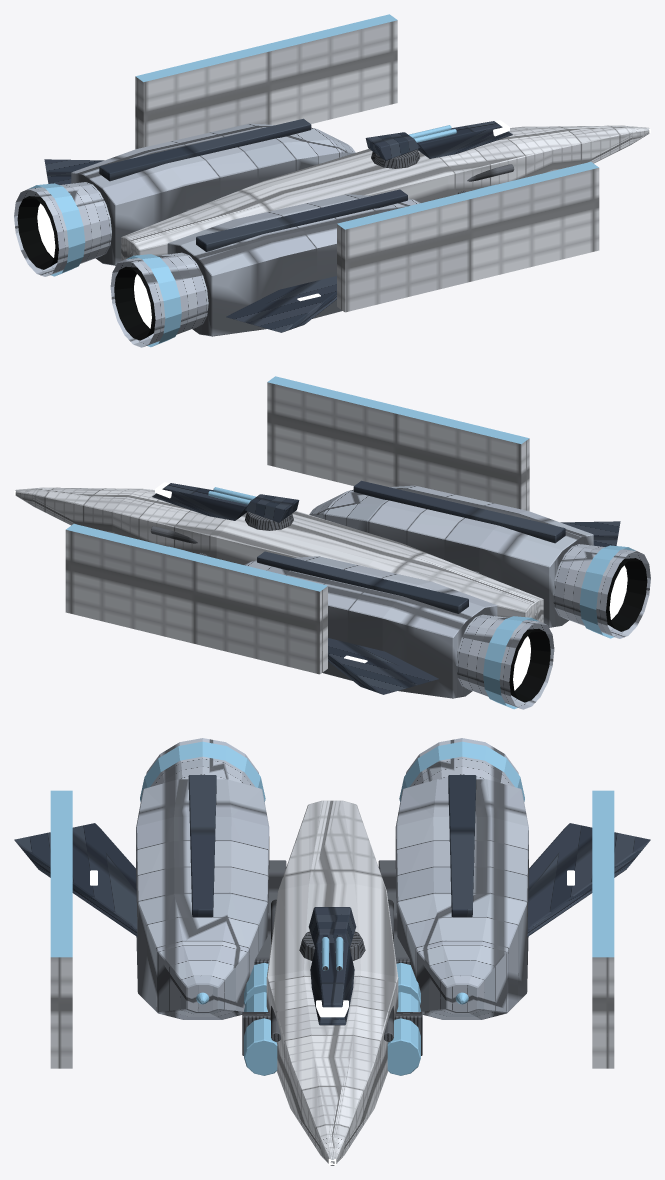
The model's file is corvette.glb.
3 views of the same model, one above another, from view 1: azimuth 30°, elevation 25°; view 2: azimuth 150°, elevation 25°; view 3: azimuth 270°, elevation 25° (orthographic). The views are drawn at different scales.
Parts seen in each view (by area): view 1: corvette; view 2: corvette; view 3: corvette.
Boxes of the visible parts, bbox=[...] form: corvette: bbox=[14, 14, 650, 347]; corvette: bbox=[14, 376, 650, 709]; corvette: bbox=[14, 738, 650, 1165].
Size of the model in its own units: 20 by 4.06 by 14.53.
1 material, 1 textured.
